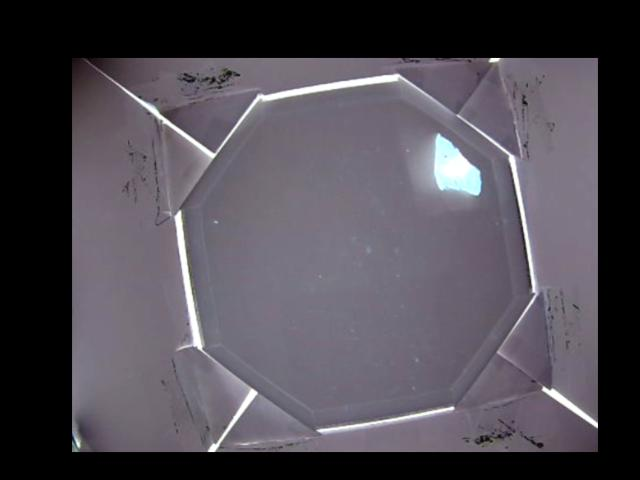Brisk: (436, 132, 481, 195)
